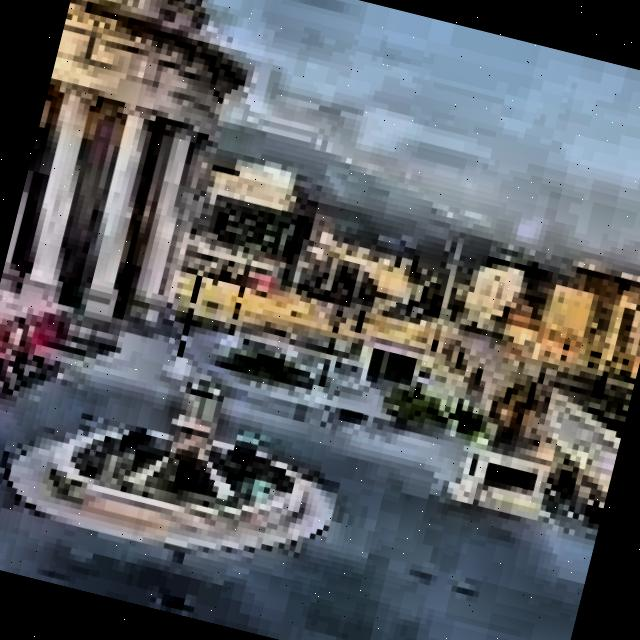stone bridge: (386, 298, 640, 486)
